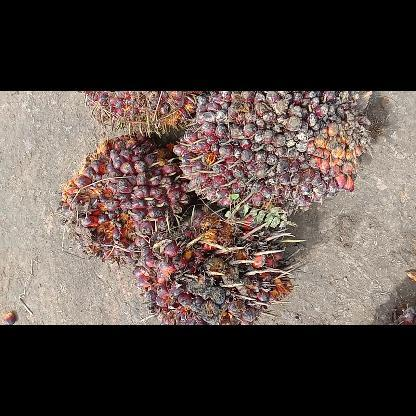Kurang masak: (170, 92, 378, 218), (74, 92, 204, 140)
TBS masak: (132, 202, 306, 324), (57, 129, 193, 264)
